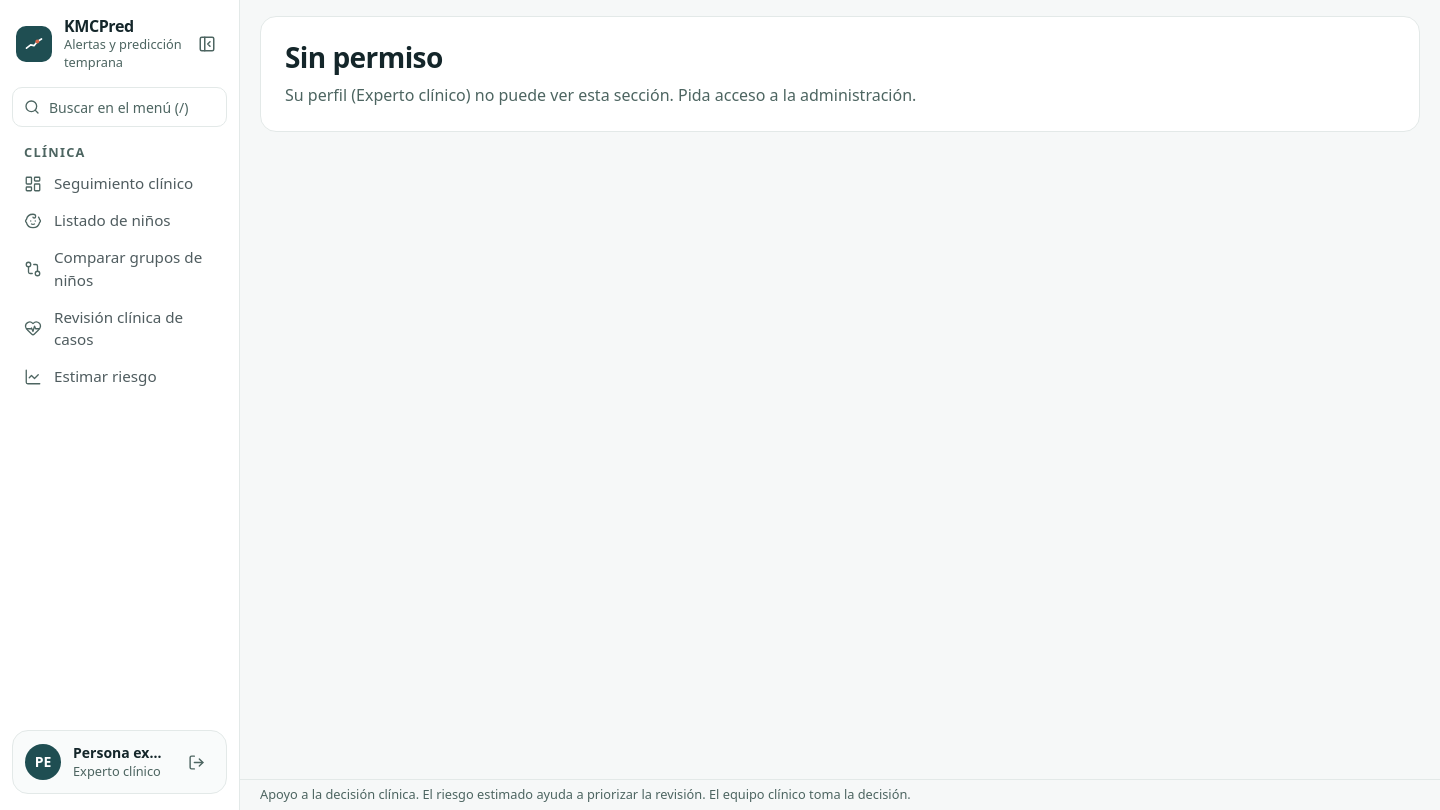
Test case: Buscar en el menú › Escape y el botón de borrar devuelven el menú completo
Type "revis" into the search field with placeholder "Buscar en el menú (/)" at (120, 107), box [12,87,227,127]
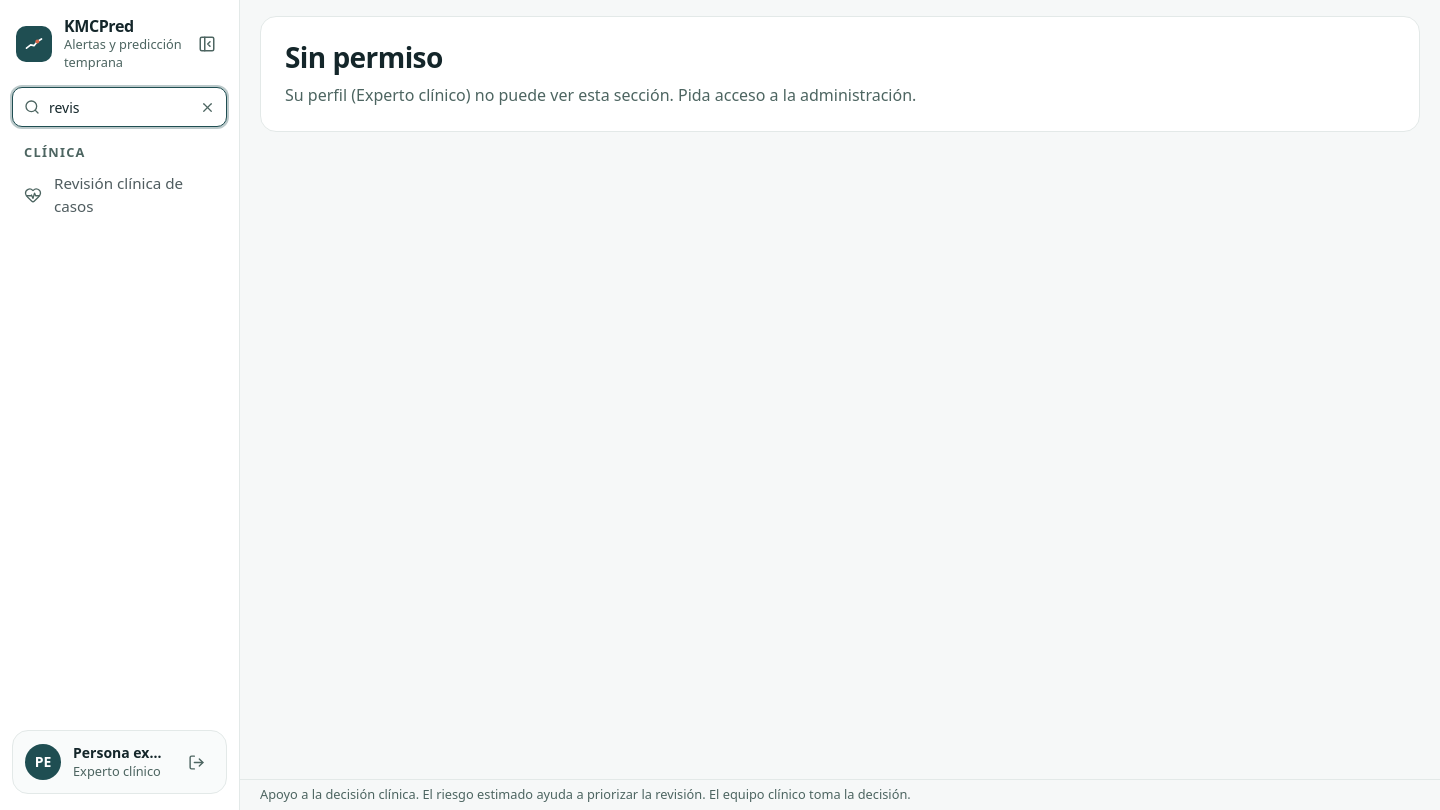
Expected: no links "Seguimiento clínico" are shown
Press Escape
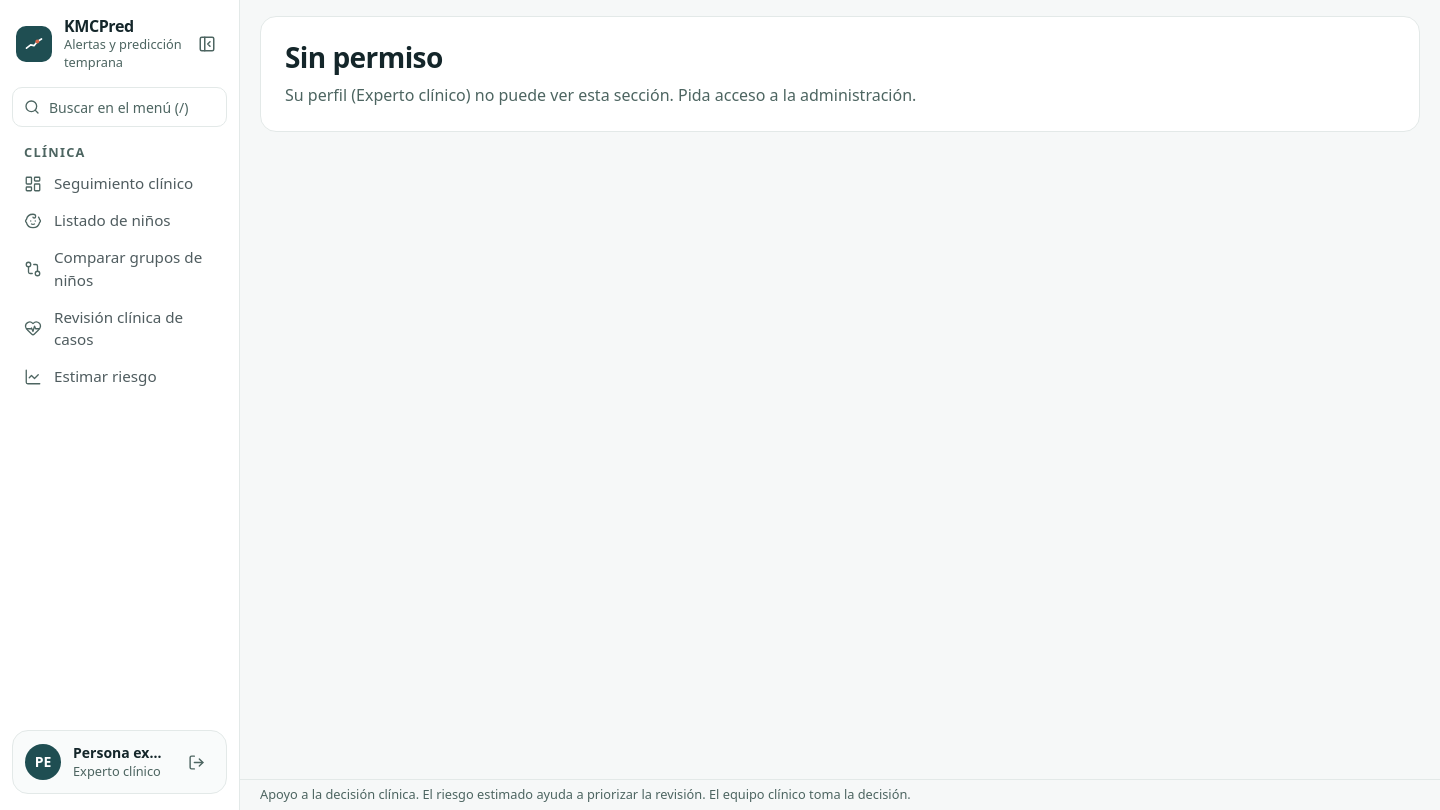
Expected: the search field with placeholder "Buscar en el menú (/)" is empty, [12,87,227,127]
Expected: the link "Seguimiento clínico" is shown, [24,173,193,193]
